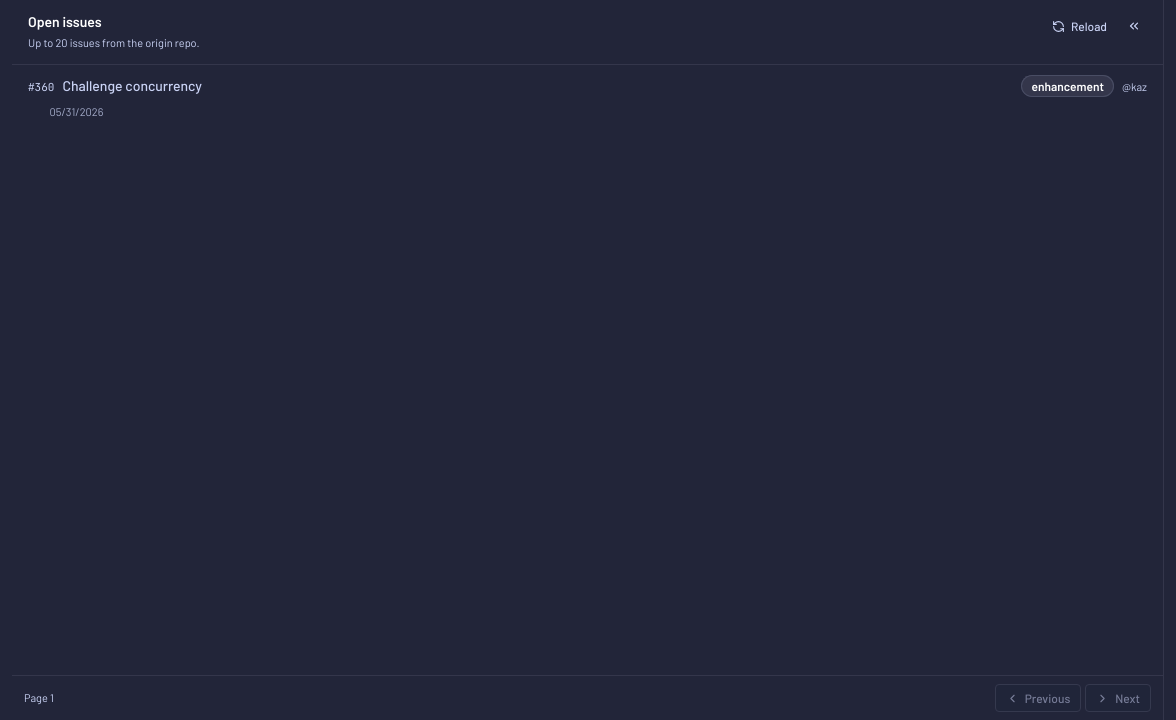
it: IssueTab › renders issue body markdown as preview
expect the text "Challenge concurrency" is shown: met, box [62, 77, 202, 94]
Click the button named "Challenge concurrency": (588, 99) [12, 65, 1163, 133]
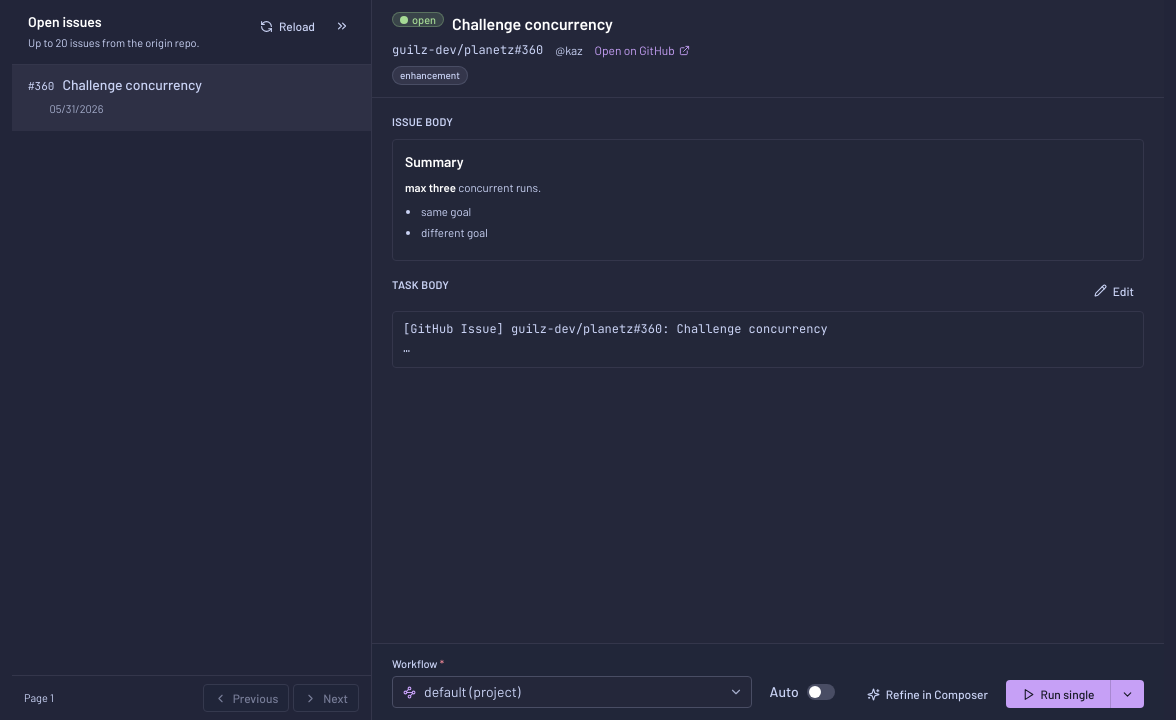
expect the heading "Summary" is shown: met, box [405, 152, 464, 170]
expect the text "max three" is shown: met, box [405, 180, 456, 194]
expect the text "same goal" is shown: met, box [421, 204, 471, 218]
